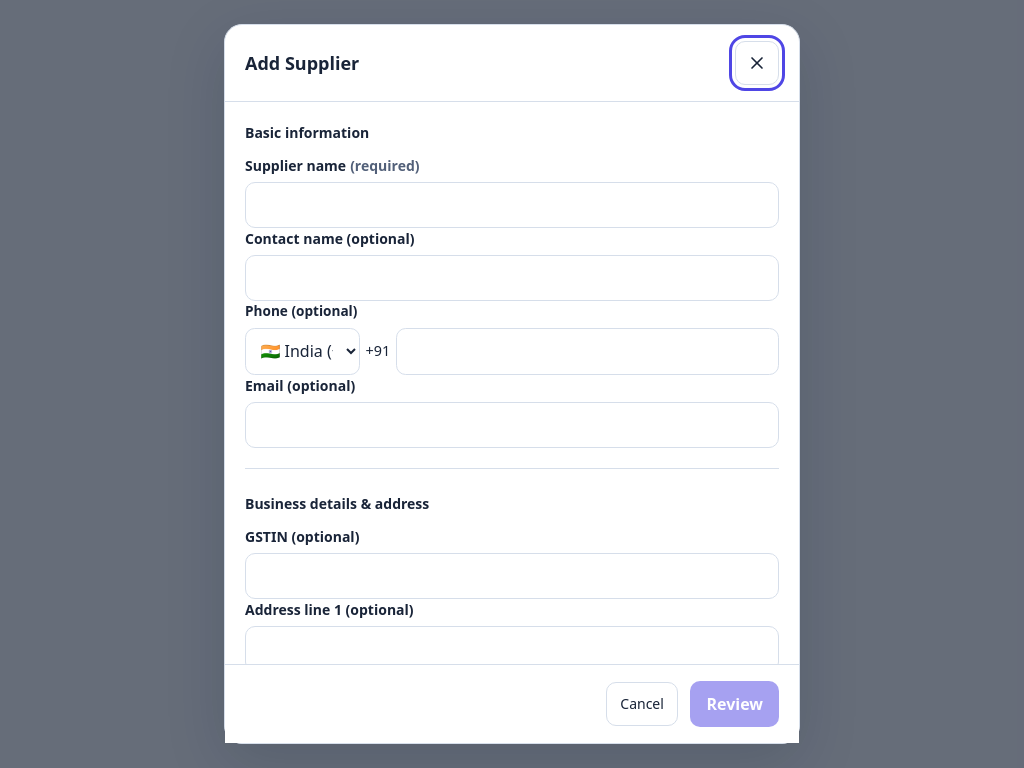
Test: review blocks invalid optional contact but name alone is sufficient
Type "QA name only" into the field labelled "Supplier name" at [512, 205], box top-left (245, 182), bottom-right (779, 228)
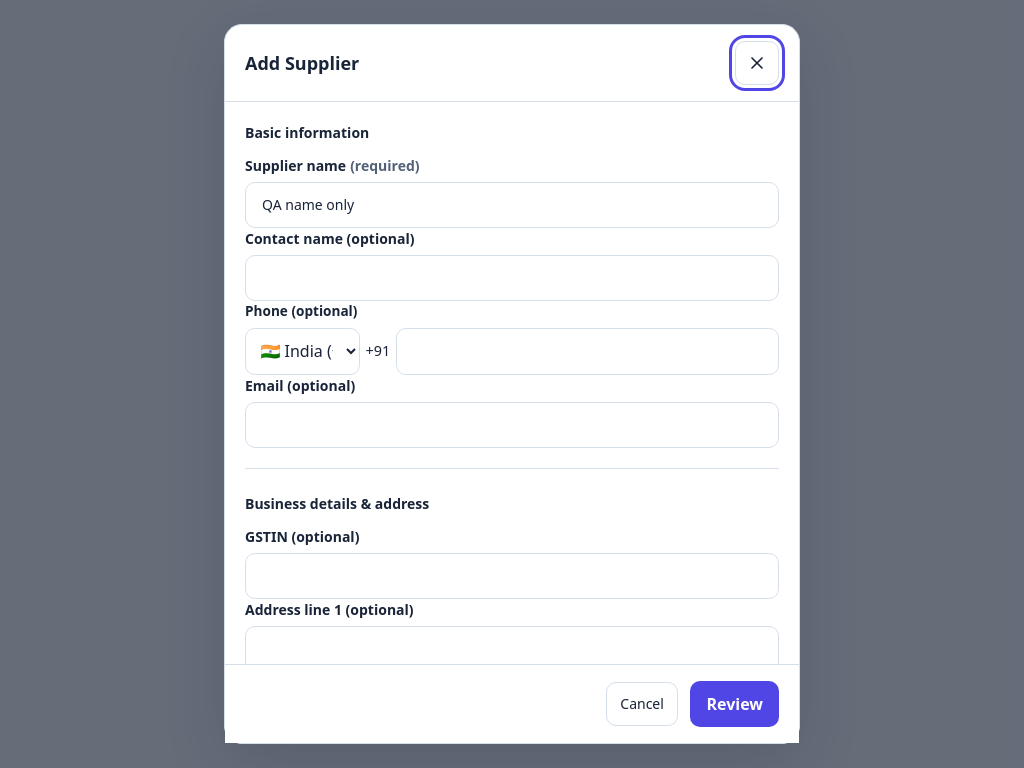
Check: the button "Review" is enabled, box top-left (690, 681), bottom-right (779, 727)
Type "malformed" into the field labelled "Email (optional)" at [512, 425], box top-left (245, 402), bottom-right (779, 448)
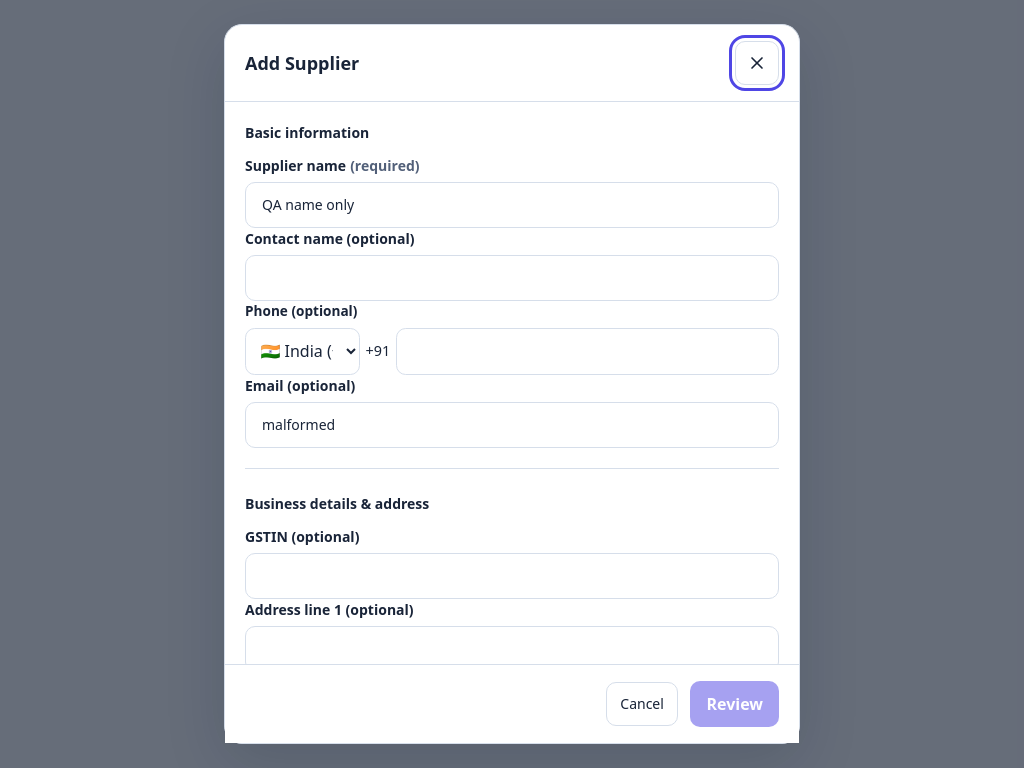
Check: the button "Review" is disabled, box top-left (690, 681), bottom-right (779, 727)
Clear the field labelled "Email (optional)" at [512, 425], box top-left (245, 402), bottom-right (779, 448)
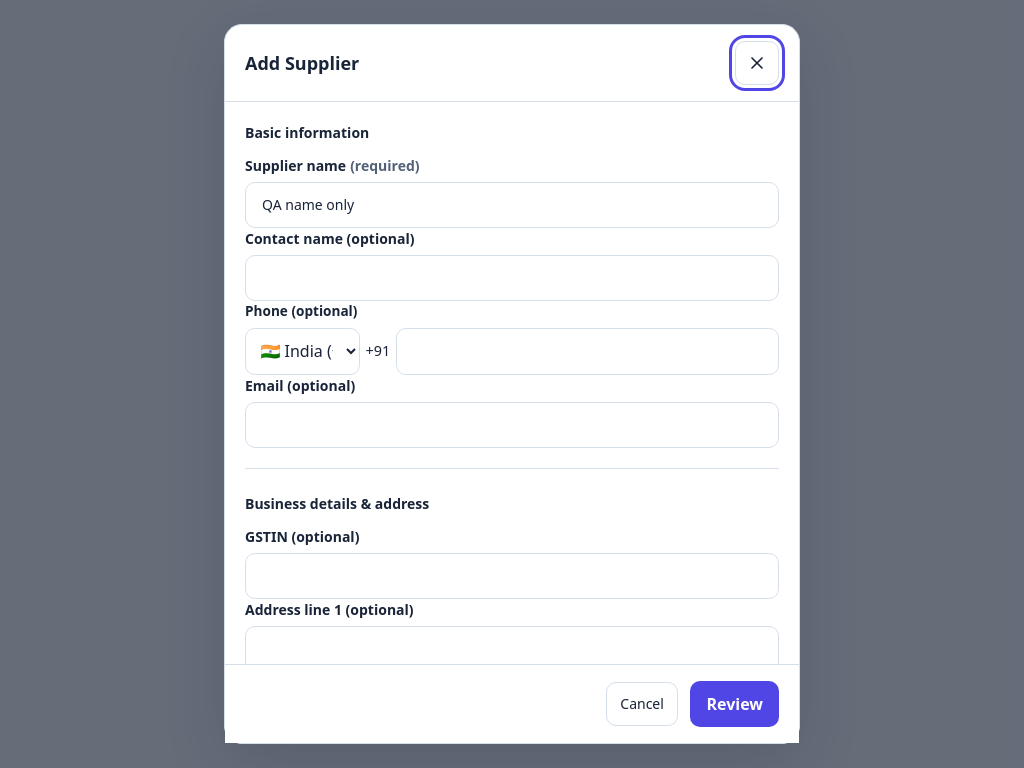
Check: the button "Review" is enabled, box top-left (690, 681), bottom-right (779, 727)
